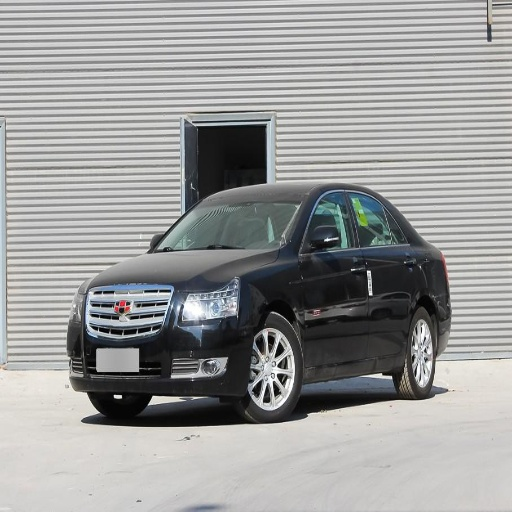front_bumper: (70, 285, 252, 395)
front_glass: (151, 193, 302, 251)
front_left_door: (301, 187, 373, 369)
